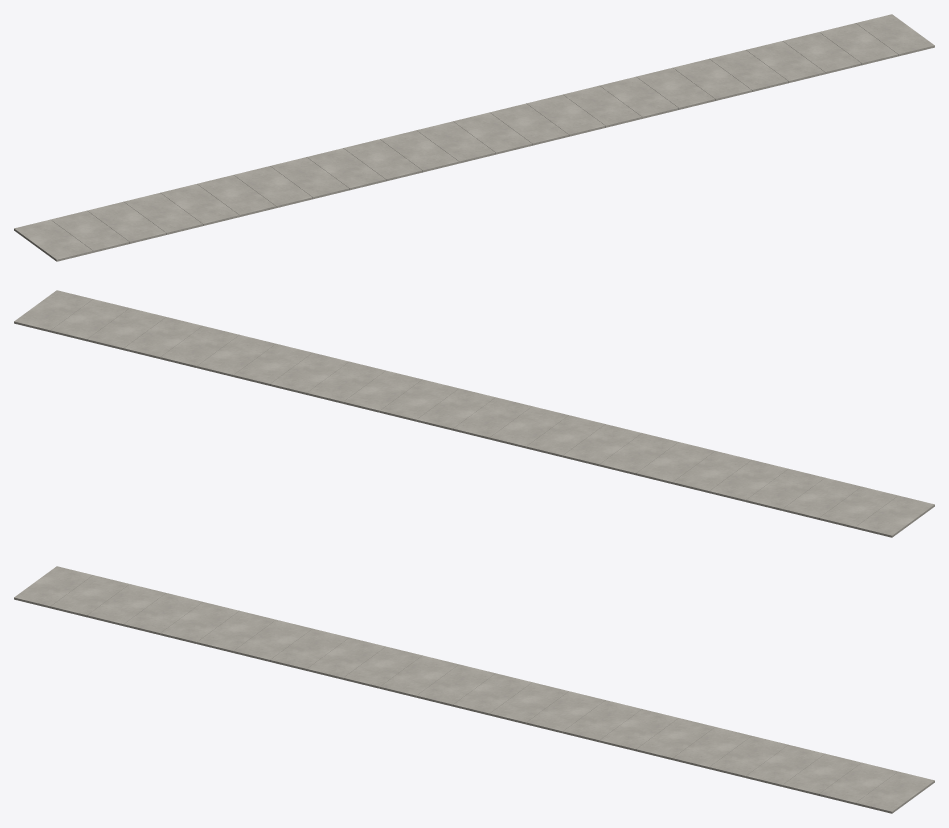
Rendered from sidewalk.glb.
3 renders of one model, top to bottom at view 1: azimuth 30°, elevation 25°; view 2: azimuth 150°, elevation 25°; view 3: azimuth 330°, elevation 25°, orthographic.
Visible parts, largest first — view 1: sidewalk_concrete; view 2: sidewalk_concrete; view 3: sidewalk_concrete.
Boxes of the visible parts, bbox=[...] form: sidewalk_concrete: bbox=[14, 14, 934, 261]; sidewalk_concrete: bbox=[14, 290, 934, 537]; sidewalk_concrete: bbox=[14, 566, 934, 813].
Size of the model in its own units: 35.99 by 0.08 by 3.04.
2 materials, 1 textured.
